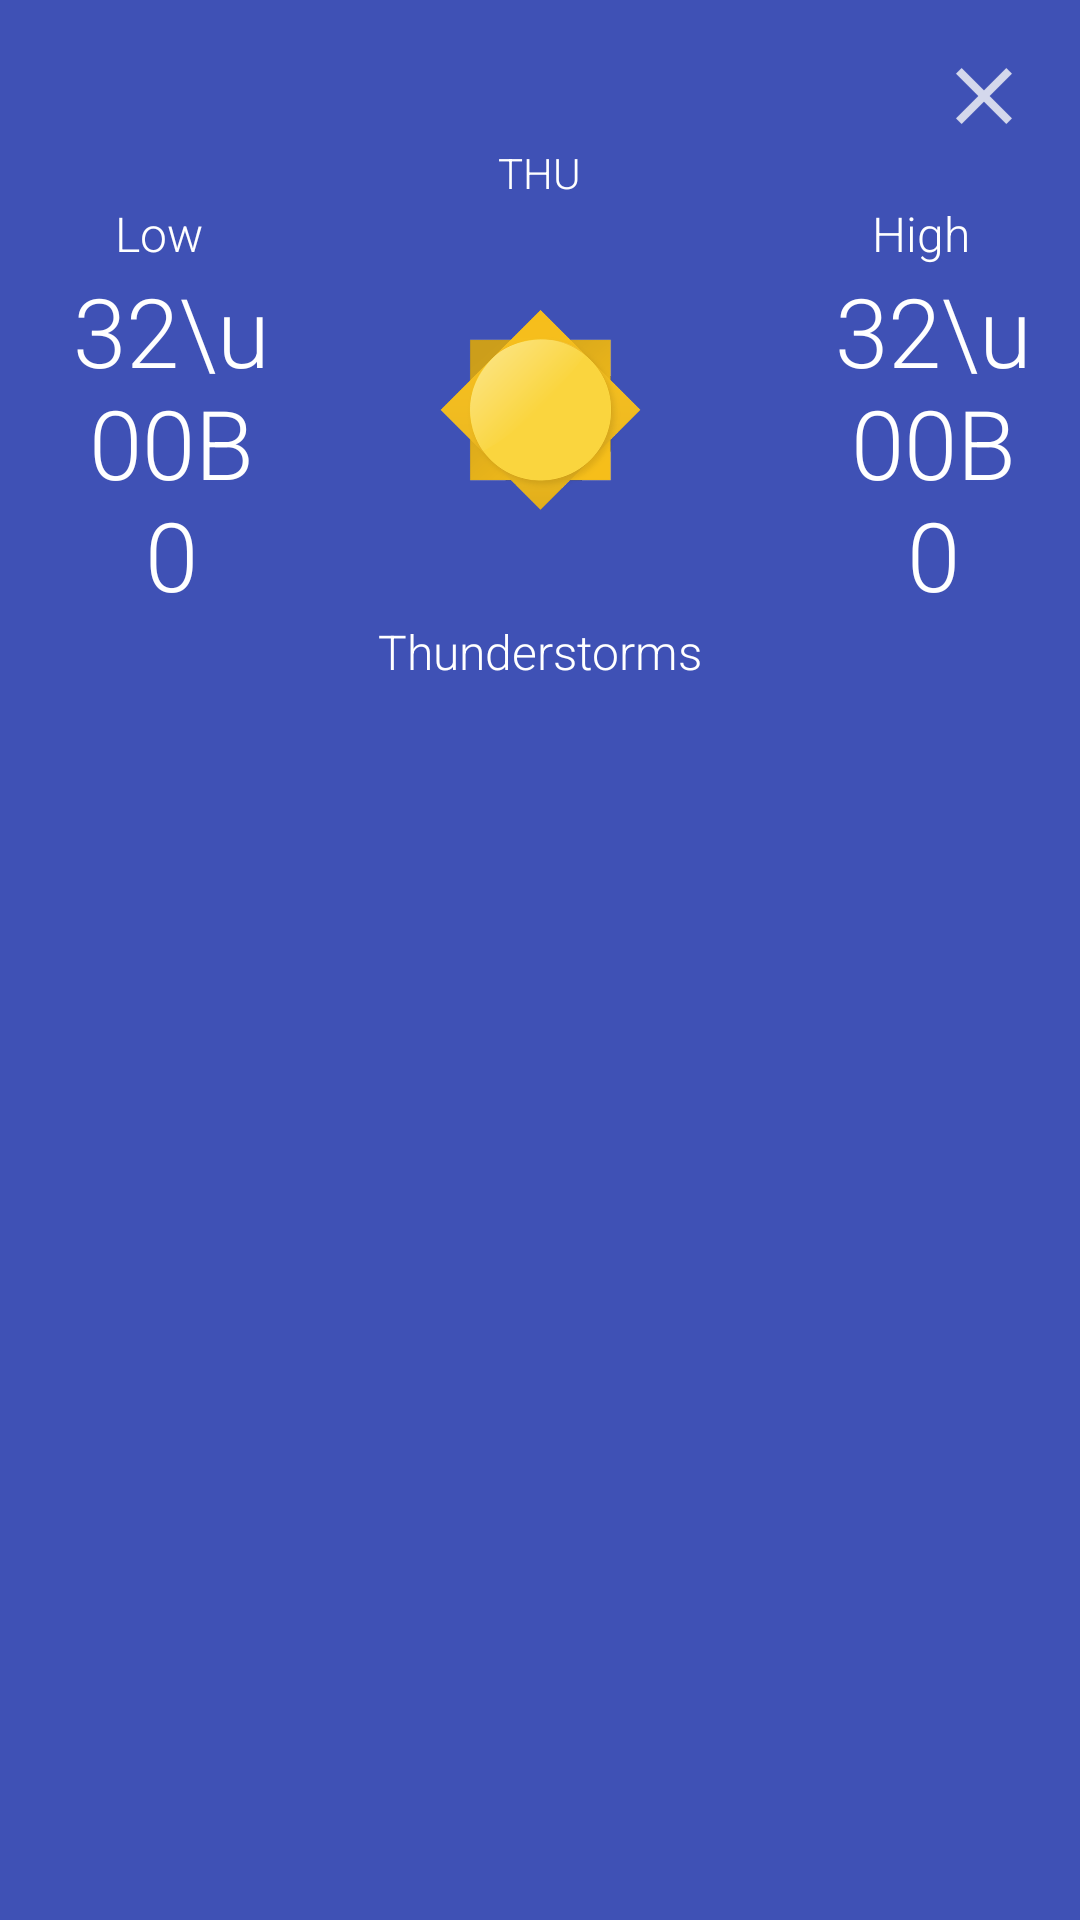

Icon click points for this 1080w x 1920h phone screenshot, format (x,y):
close: (984,96)
sun: (540,410)
